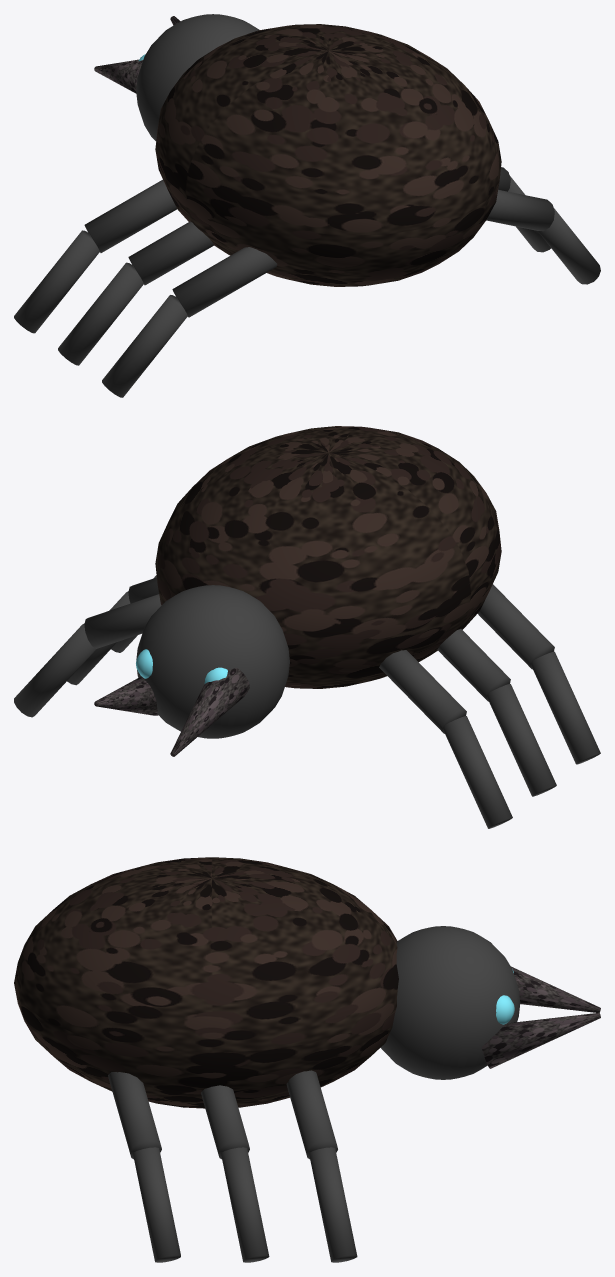
File: stag-beetle.glb
The picture shows the model from 3 angles, top to bottom: view 1: azimuth 30°, elevation 25°; view 2: azimuth 150°, elevation 25°; view 3: azimuth 270°, elevation 25°; orthographic projection.
Visible parts, largest first — view 1: Shell, Head, LegUpper.002, LegLower, LegLower.002, LegLower.001, LegUpper, LegUpper.001, LegLower.005, LegUpper.005, Mandible, LegLower.004; view 2: Shell, Head, LegLower.002, LegLower, LegLower.001, LegUpper, LegLower.003, LegUpper.002, Mandible, LegUpper.001, LegUpper.003, Mandible.001 (+1 smaller); view 3: Shell, Head, LegLower.004, LegLower.005, LegLower.003, Mandible.001, LegUpper.005, LegUpper.003, LegUpper.004, Mandible.
Boxes of the visible parts, x1,y1,x2,y2 form: Shell: (155,24,501,286); Head: (136,14,259,141); LegUpper.002: (172,247,277,317); LegLower: (14,230,99,333); LegLower.002: (102,295,187,397); LegLower.001: (58,262,143,365); LegUpper: (84,179,176,252); LegUpper.001: (128,221,213,285); LegLower.005: (538,208,600,284); LegUpper.005: (486,189,554,231); Mandible: (94,59,142,93); LegLower.004: (508,175,550,252); Shell: (155,426,501,688); Head: (136,585,289,738); LegLower.002: (531,651,600,764); LegLower: (443,716,512,828); LegLower.001: (487,684,556,796); LegUpper: (379,650,466,733); LegLower.003: (14,623,96,717); LegUpper.002: (477,584,554,669); Mandible: (170,668,249,756); LegUpper.001: (437,629,510,701); LegUpper.003: (84,594,161,648); Mandible.001: (94,677,158,715); Shell: (14,857,398,1108); Head: (380,926,520,1079); LegLower.004: (221,1147,269,1262); LegLower.005: (133,1147,180,1262); LegLower.003: (309,1147,357,1262); Mandible.001: (481,1012,600,1068); LegUpper.005: (108,1072,161,1159); LegUpper.003: (286,1070,337,1159); LegUpper.004: (201,1085,249,1159); Mandible: (511,966,600,1012).
Bounding box in the file's own units: 0.9658 × 0.5065 × 0.9904.
Materials: 4 (2 with a texture image).
